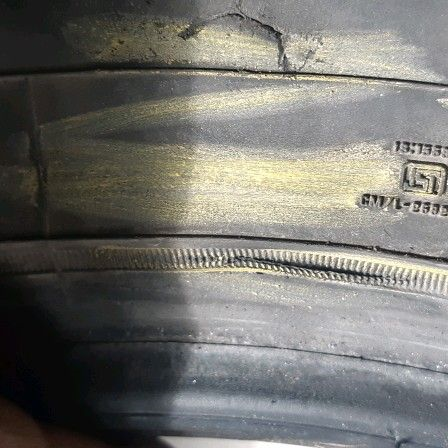cut: (176, 10, 295, 76), (225, 255, 390, 281)
